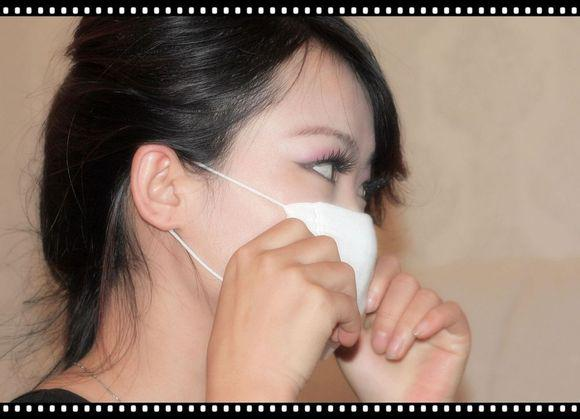OK: (148, 108, 388, 348)
